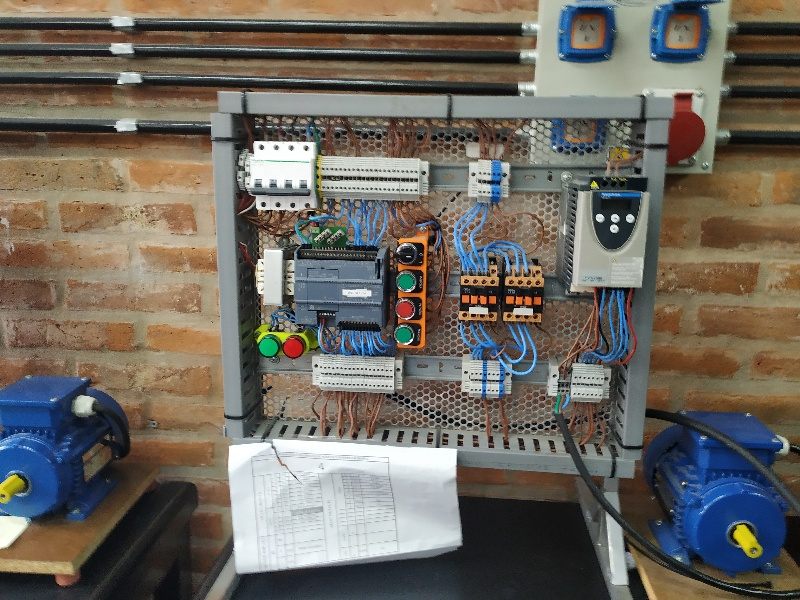Tablero 4: (227, 107, 649, 468)
